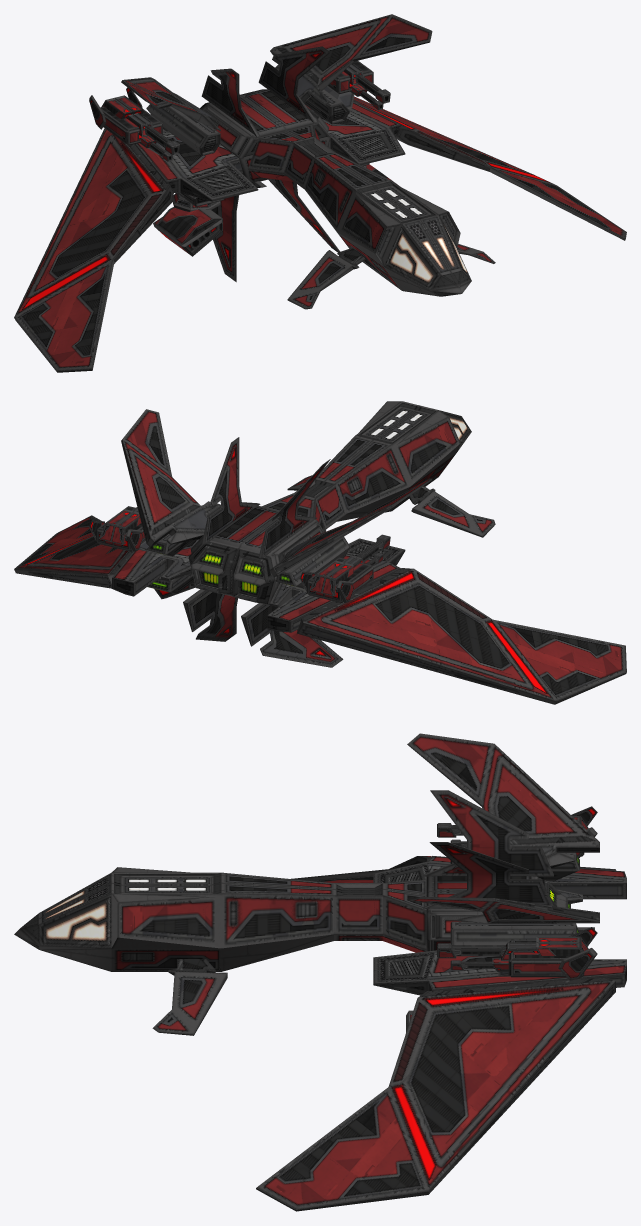
Rendered from BFP_SmallStarship05.FBX.
3 renders of one model, top to bottom at view 1: azimuth 30°, elevation 25°; view 2: azimuth 150°, elevation 25°; view 3: azimuth 270°, elevation 25°, orthographic. The views are drawn at different scales.
Visible parts, largest first — view 1: Cockpit, LargeWing_Right, UpperTailFin_Left, LargeWing_Left, WingSection01_Right, WingSection01_Left, Cannon_UpperRight, SideFins_Left, FrontLowerFins, MissileLauncher_BayRight, UpperEngine_Right, Cannon_UpperLeft (+5 smaller); view 2: LargeWing_Right, Cockpit, UpperTailFin_Left, LargeWing_Left, WingSection01_Right, Cannon_UpperRight, LowerFin_Right, WingSection01_Left, SideFins_Left, LowerFin_Left, FrontLowerFins, UpperTailFin_Right (+5 smaller); view 3: LargeWing_Left, Cockpit, UpperTailFin_Right, WingSection01_Left, Cannon_UpperLeft, SideFins_Right, SideFins_Left, FrontLowerFins, UpperTailFin_Left, WingSection01_Right, UpperEngine_Left, LargeWing_Right (+1 smaller).
Boxes of the visible parts, x1,y1,x2,y2 form: Cockpit: [200, 89, 471, 296]; LargeWing_Right: [14, 128, 173, 372]; UpperTailFin_Left: [270, 14, 432, 105]; LargeWing_Left: [353, 96, 626, 240]; WingSection01_Right: [134, 127, 258, 201]; WingSection01_Left: [305, 102, 405, 165]; Cannon_UpperRight: [89, 87, 179, 161]; SideFins_Left: [258, 46, 330, 123]; FrontLowerFins: [287, 244, 495, 309]; MissileLauncher_BayRight: [153, 207, 222, 256]; UpperEngine_Right: [146, 104, 220, 155]; Cannon_UpperLeft: [324, 60, 390, 110]; LargeWing_Right: [297, 568, 626, 704]; Cockpit: [188, 401, 471, 605]; UpperTailFin_Left: [121, 409, 220, 547]; LargeWing_Left: [14, 515, 133, 588]; WingSection01_Right: [267, 538, 405, 632]; Cannon_UpperRight: [300, 534, 390, 602]; LowerFin_Right: [241, 603, 343, 667]; WingSection01_Left: [112, 504, 221, 596]; SideFins_Left: [201, 437, 260, 544]; LowerFin_Left: [183, 589, 237, 641]; FrontLowerFins: [287, 475, 495, 537]; UpperTailFin_Right: [270, 478, 432, 577]; LargeWing_Left: [256, 977, 615, 1211]; Cockpit: [14, 867, 567, 971]; UpperTailFin_Right: [407, 733, 599, 868]; WingSection01_Left: [373, 950, 626, 995]; Cannon_UpperLeft: [437, 927, 597, 980]; SideFins_Right: [423, 790, 553, 876]; SideFins_Left: [423, 842, 553, 908]; FrontLowerFins: [152, 959, 227, 1035]; UpperTailFin_Left: [407, 897, 599, 923]; WingSection01_Right: [373, 856, 626, 904]; UpperEngine_Left: [450, 921, 578, 945]; LargeWing_Right: [291, 856, 615, 882].
Bounding box in the file's own units: 430 × 146 × 341.
Materials: 1 (1 with a texture image).
